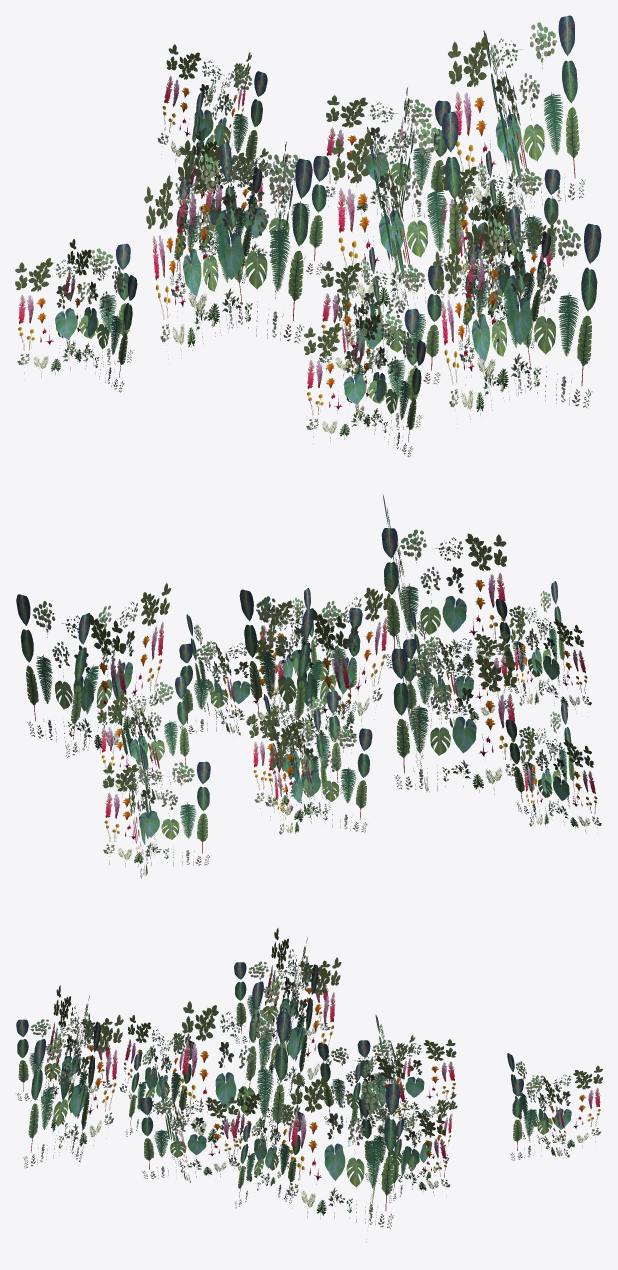
The model's file is grass_1_3.FBX.
3 views of the same model, one above another, from view 1: azimuth 30°, elevation 25°; view 2: azimuth 150°, elevation 25°; view 3: azimuth 270°, elevation 25° (orthographic). The views are drawn at different scales.
Parts seen in each view (by area): view 1: gras_long_LOD02; view 2: gras_long_LOD02; view 3: gras_long_LOD02.
Boxes of the visible parts, x1=… form: gras_long_LOD02: x1=15, y1=15, x2=601, y2=457; gras_long_LOD02: x1=16, y1=495, x2=601, y2=878; gras_long_LOD02: x1=15, y1=928, x2=602, y2=1241.
Size of the model in its own units: 322 by 88.58 by 340.
